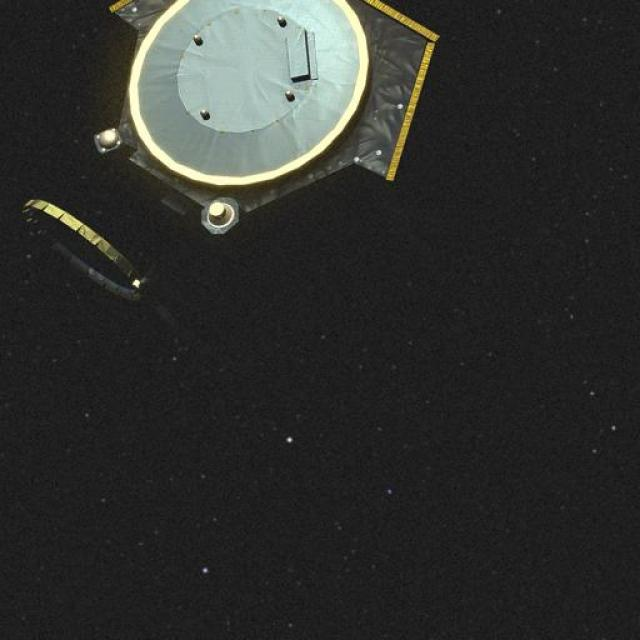cheops: (2, 0, 444, 341)
